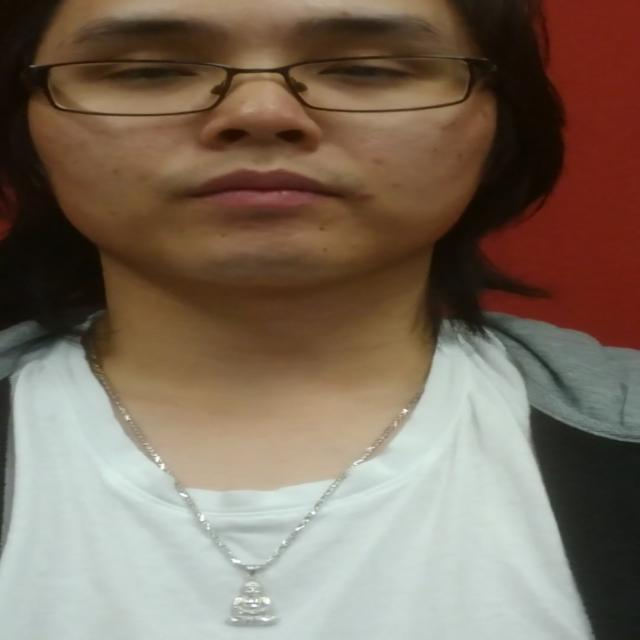Eyeclosed: (315, 47, 409, 91), (101, 55, 199, 91)
